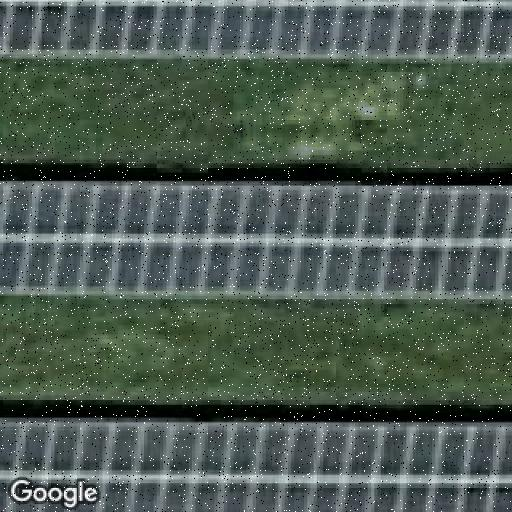solar-panel: (0, 182, 512, 300), (0, 424, 512, 512), (0, 0, 512, 59)
